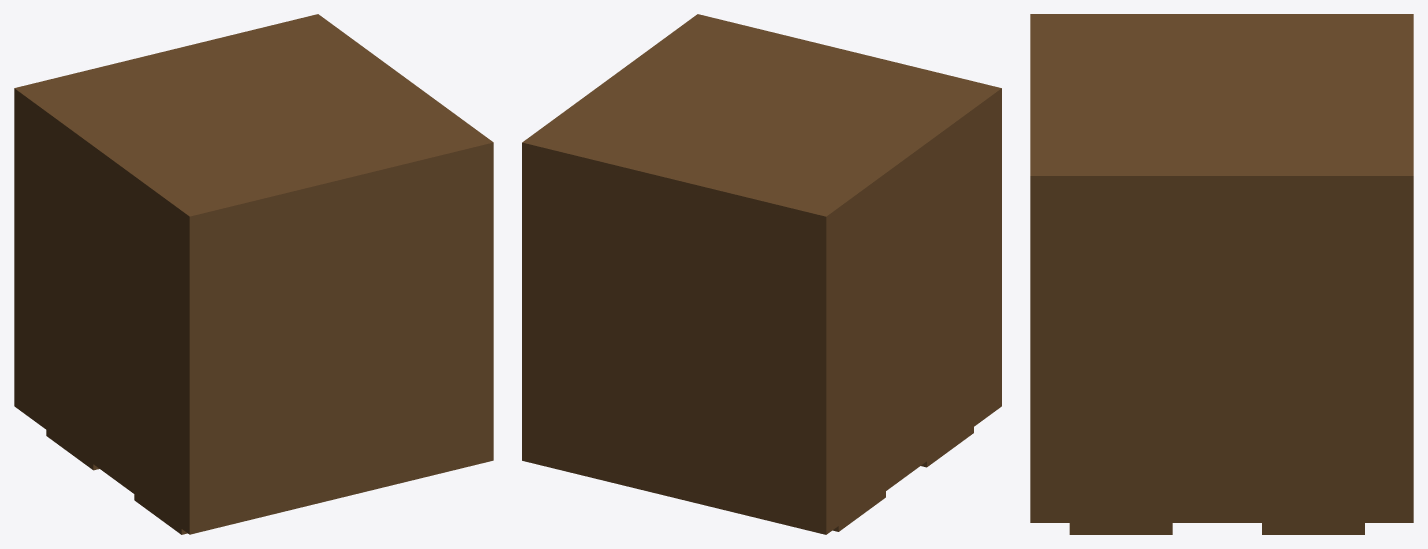
The model's file is Mesilla.fbx.
3 renders of one model, left to right at view 1: azimuth 30°, elevation 25°; view 2: azimuth 150°, elevation 25°; view 3: azimuth 270°, elevation 25°, orthographic. The views are drawn at different scales.
Parts seen in each view (by area): view 1: Mesilla; view 2: Mesilla; view 3: Mesilla.
Part boxes in pixels (x1,y1,x2,y2): Mesilla: (14,14,493,534); Mesilla: (522,14,1001,534); Mesilla: (1030,14,1413,534).
Size of the model in its own units: 54.06 by 58.67 by 54.06.
